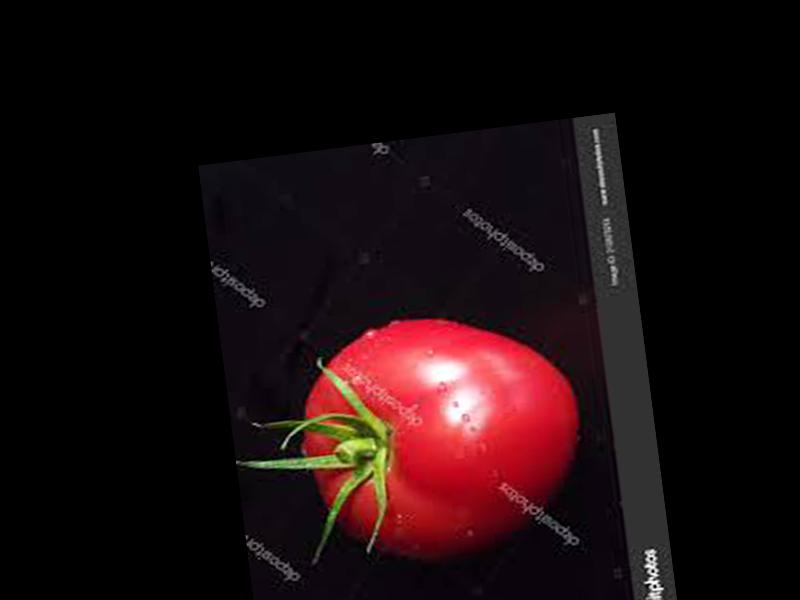Tomato: (289, 299, 593, 573)
